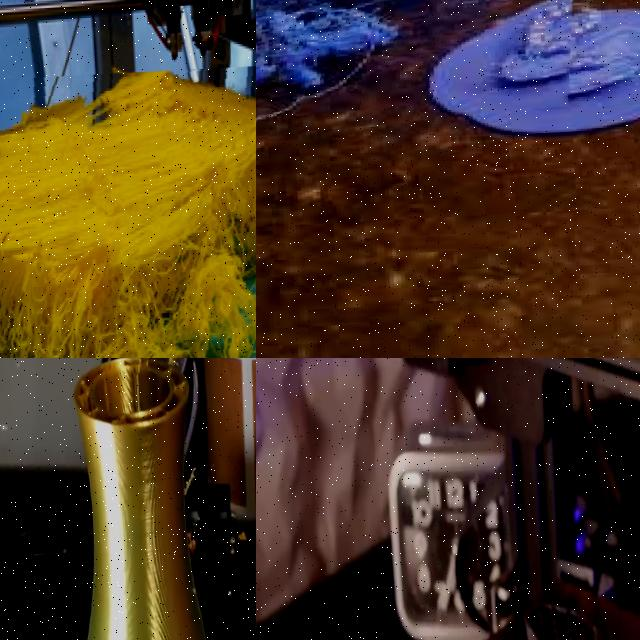spaghetti: (0, 70, 256, 358), (256, 0, 505, 134), (163, 358, 184, 365)
